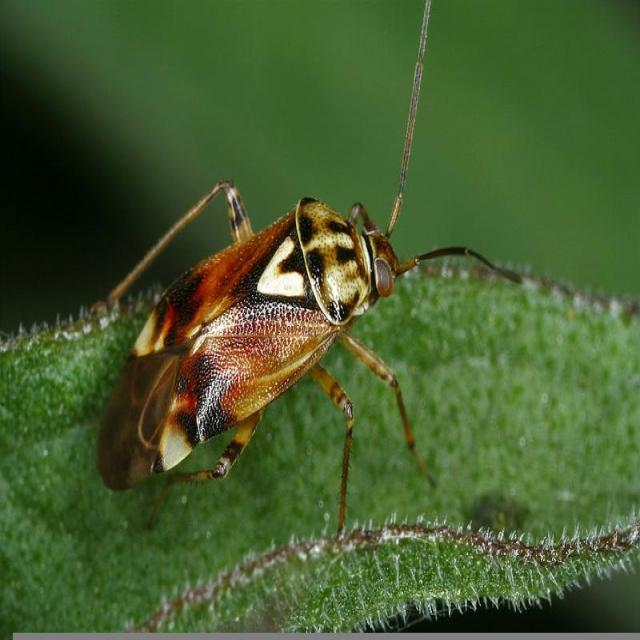Miridae-Adult-: (96, 34, 509, 538)
